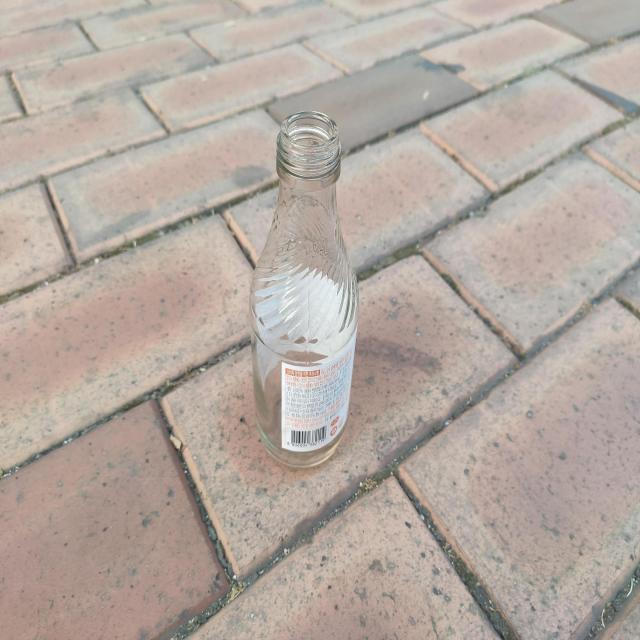glass: (249, 111, 358, 468)
